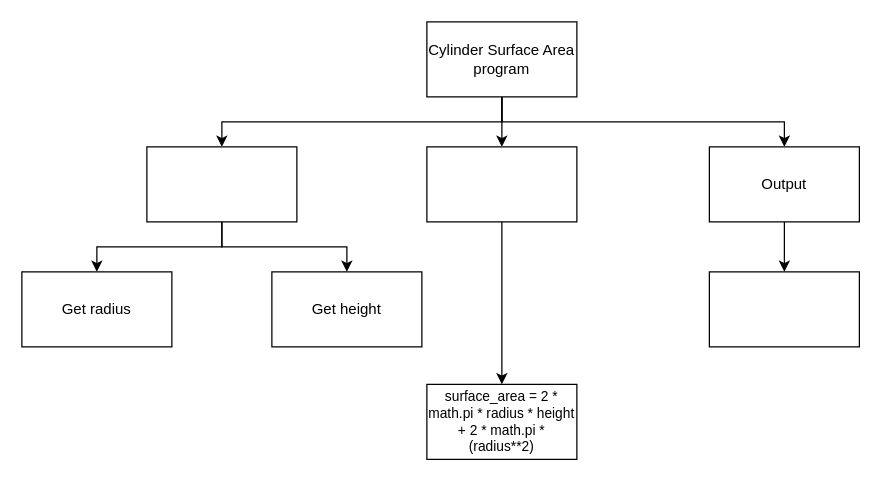
This 881x481 diagram has some shape labels left out. The shapes that lost their labels are listed below. From the top down, each one's centre as x and y in pixels, then its label:
At point 221,184: "Input".
At point 501,184: "Process".
At point 783,309: "Show surface area".
